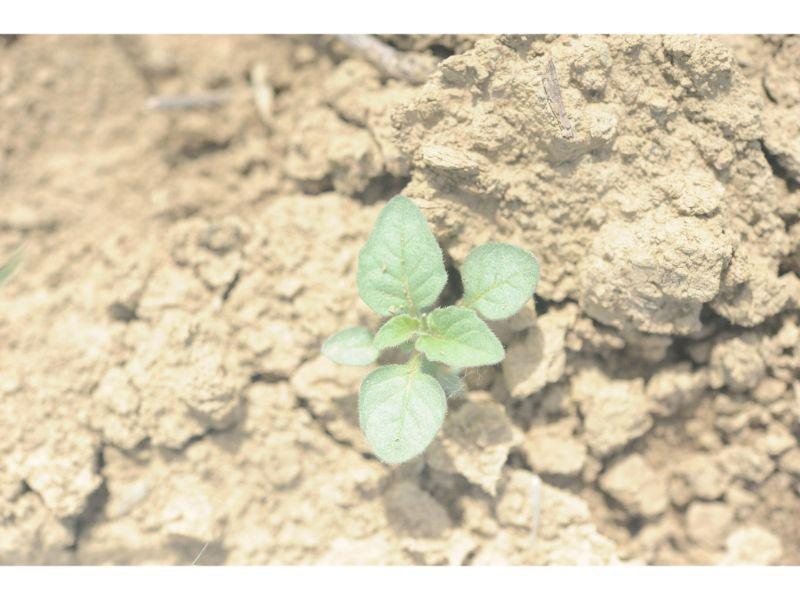nightshade: (323, 197, 538, 465)
